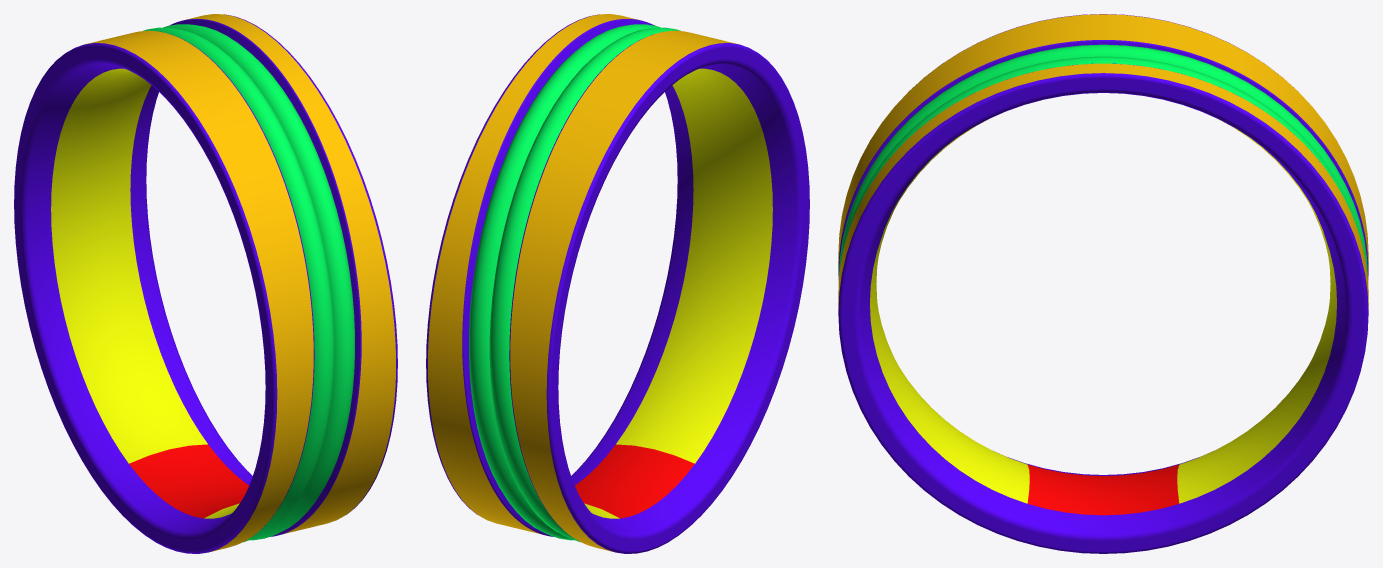
3 views of the same model, side by side, from view 1: azimuth 30°, elevation 25°; view 2: azimuth 150°, elevation 25°; view 3: azimuth 270°, elevation 25° (orthographic).
Parts seen in each view (by area): view 1: IN1222; view 2: IN1222; view 3: IN1222.
Boxes of the visible parts, box(x1,y1,x2,y2) form: IN1222: box(14, 14, 397, 553); IN1222: box(426, 14, 809, 553); IN1222: box(838, 14, 1368, 553).
Bounding box in the file's own units: 0.006 × 0.0217 × 0.0217.
